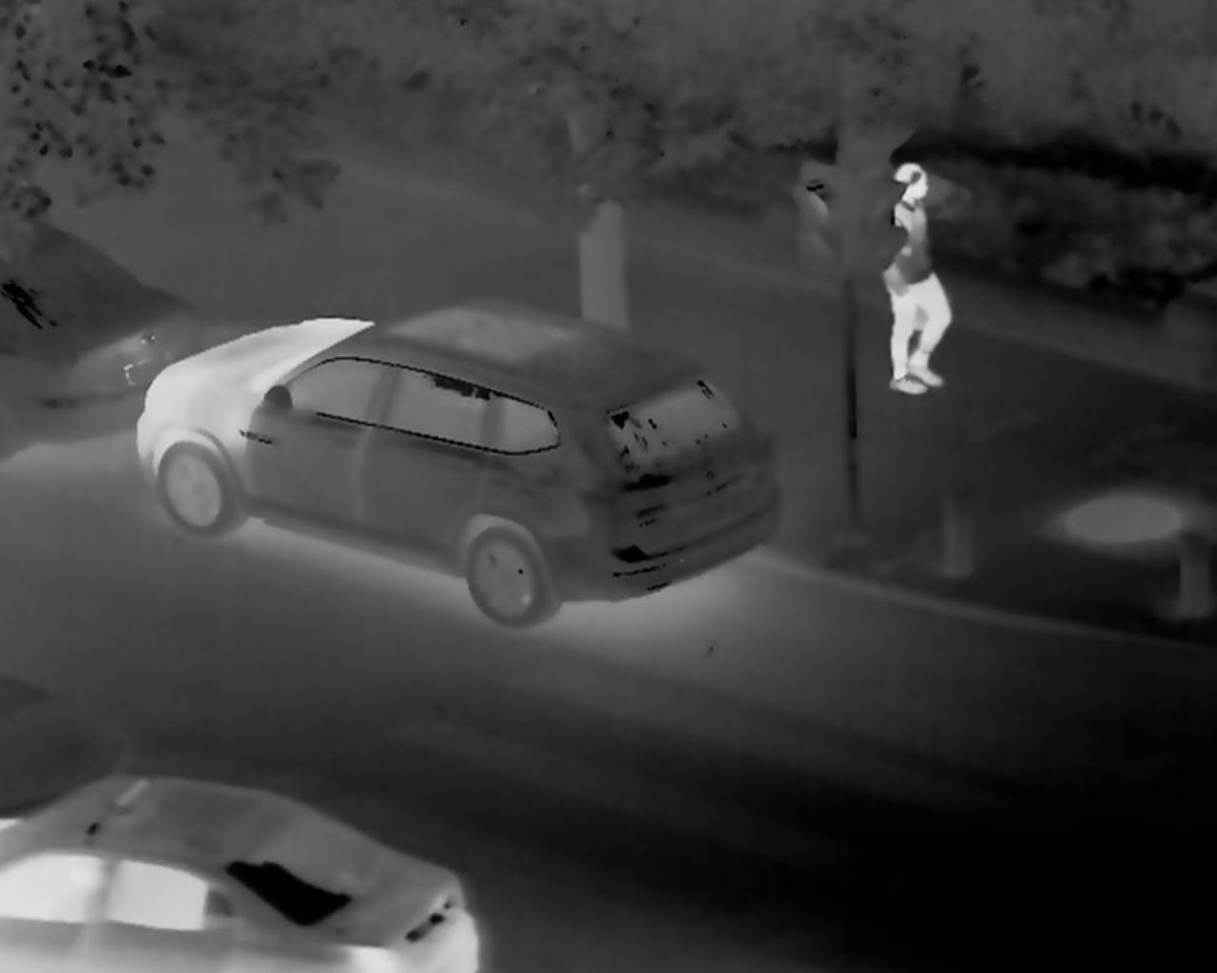person: (878, 158, 952, 398)
